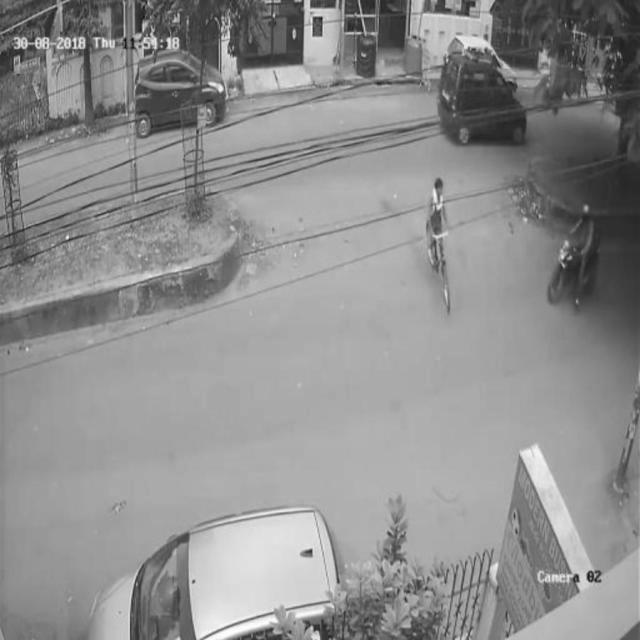vehicle: (83, 503, 346, 640), (440, 49, 528, 147), (132, 47, 225, 135), (544, 205, 598, 306), (423, 178, 457, 312)
